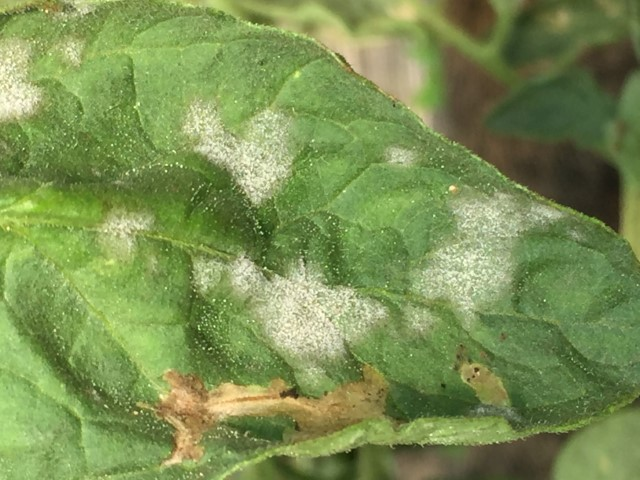oidio: (226, 253, 389, 386), (411, 188, 562, 329), (183, 99, 297, 206), (1, 40, 43, 127), (102, 209, 156, 253), (470, 402, 524, 425), (191, 256, 222, 294), (406, 307, 437, 334), (59, 36, 85, 66), (386, 145, 417, 168), (66, 2, 95, 18), (565, 225, 588, 245)
